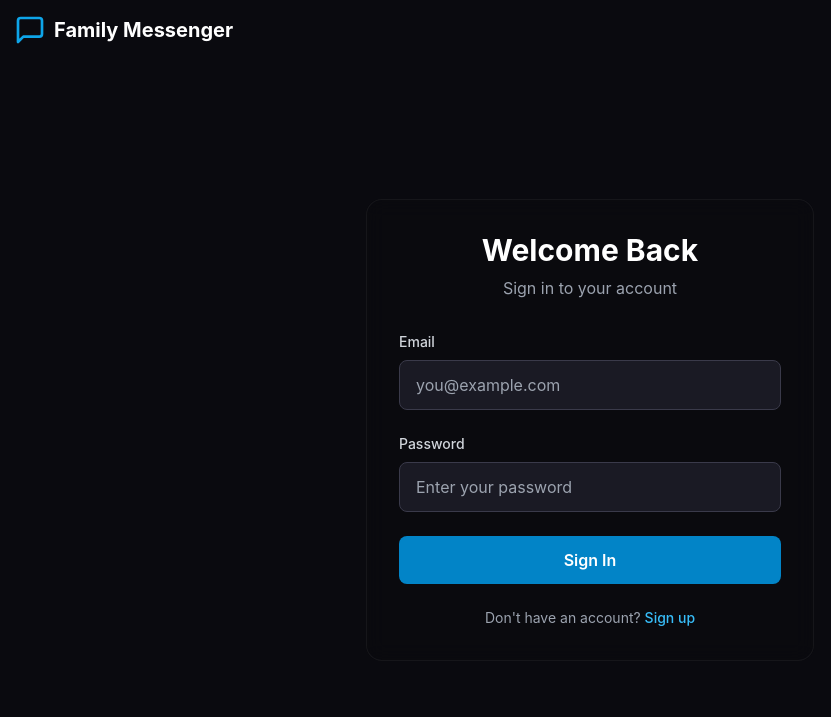
Test: Login Page › displays error when signIn fails
Type "wrong@example.com" into the field labelled "Email".
click(590, 385); type("wrong@example.com")  # box [399,360,781,410]
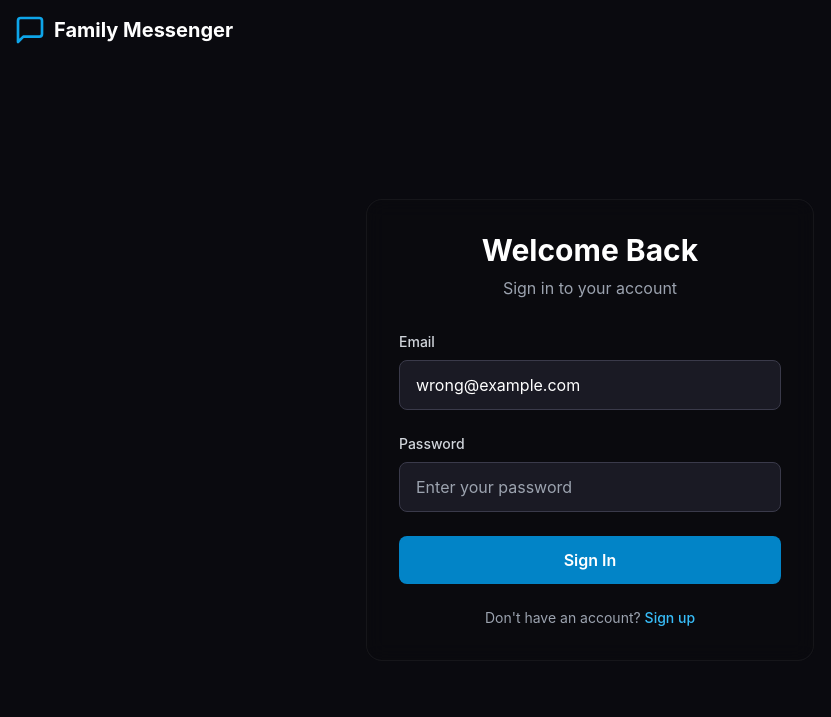
Type "wrongpassword" into the password field labelled "Password".
click(590, 487); type("wrongpassword")  # box [399,462,781,512]
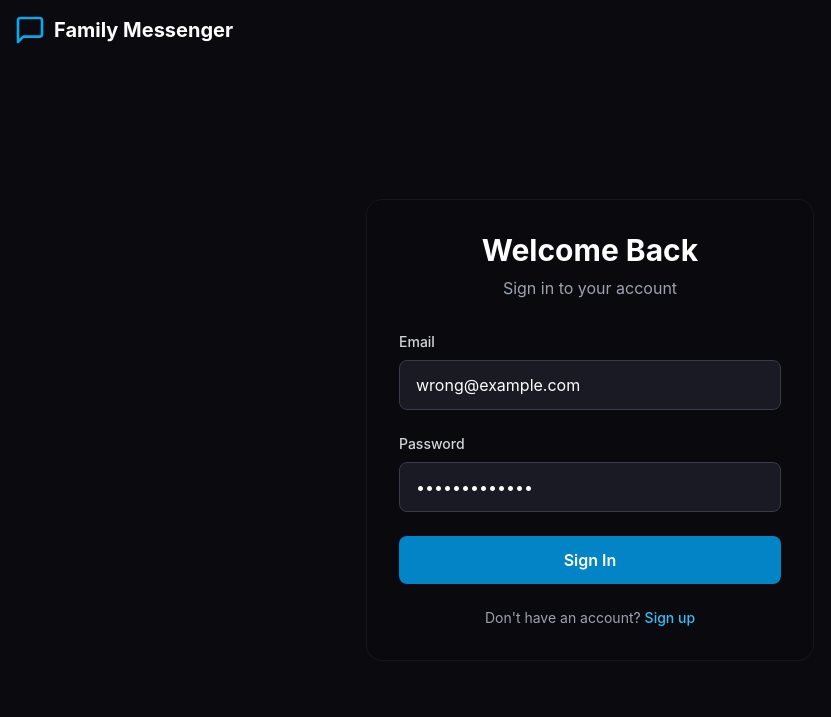
Click the button "Sign In".
click(590, 560)  # box [399,536,781,584]
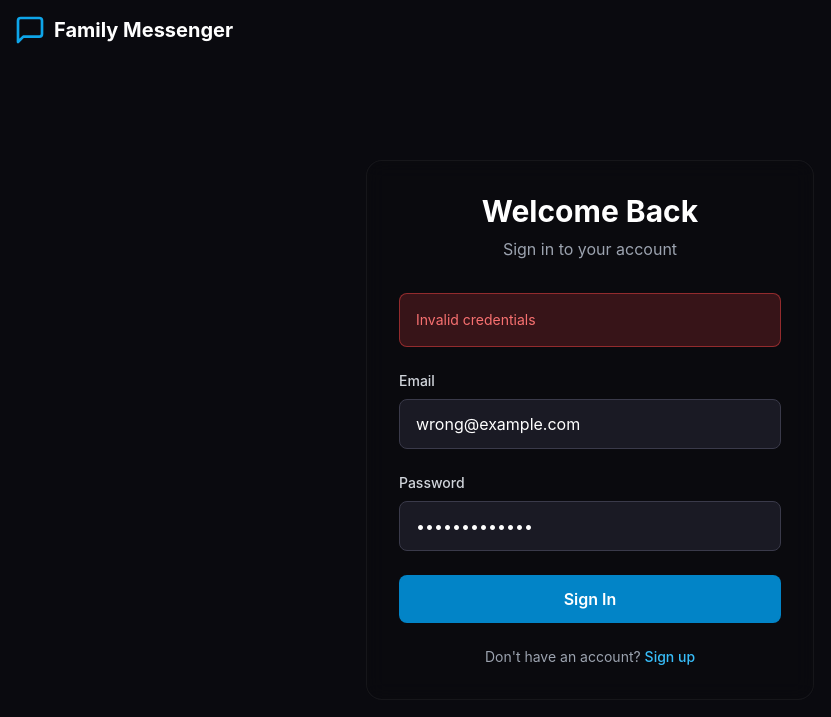
Check: the text "Invalid credentials" is shown, box [399,293,781,347]
